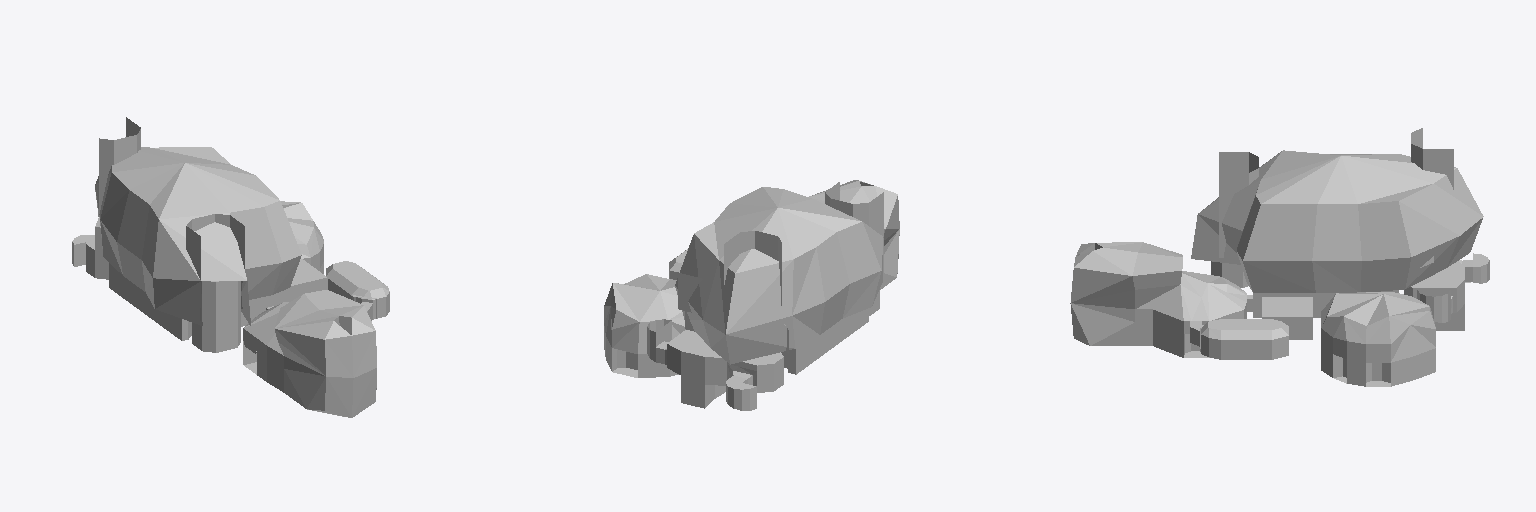
Rendered from Floor 4.obj.
3 views of the same model, side by side, from view 1: azimuth 30°, elevation 25°; view 2: azimuth 150°, elevation 25°; view 3: azimuth 270°, elevation 25° (orthographic).
Visible parts, largest first — view 1: Floor4#Room0, Floor4#Room2, Floor4#Room3, Floor4#Room4, Floor4#Room5, Floor4#Room1; view 2: Floor4#Room0, Floor4#Room5, Floor4#Room4, Floor4#Room2; view 3: Floor4#Room0, Floor4#Room2, Floor4#Room4, Floor4#Room3, Floor4#Room5, Floor4#Room1.
Boxes of the visible parts, <box> form: Floor4#Room0: <box>95,117,301,352</box>; Floor4#Room2: <box>243,290,376,417</box>; Floor4#Room3: <box>326,261,389,320</box>; Floor4#Room4: <box>281,201,323,273</box>; Floor4#Room5: <box>72,235,108,279</box>; Floor4#Room1: <box>286,259,327,301</box>; Floor4#Room0: <box>675,182,883,374</box>; Floor4#Room5: <box>647,319,783,410</box>; Floor4#Room4: <box>604,274,685,377</box>; Floor4#Room2: <box>809,180,899,289</box>; Floor4#Room0: <box>1191,128,1483,317</box>; Floor4#Room2: <box>1070,242,1249,357</box>; Floor4#Room4: <box>1321,292,1435,386</box>; Floor4#Room3: <box>1190,319,1288,359</box>; Floor4#Room5: <box>1404,253,1489,330</box>; Floor4#Room1: <box>1262,297,1312,339</box>.
Size of the model in its own units: 1775 by 1350 by 2972.